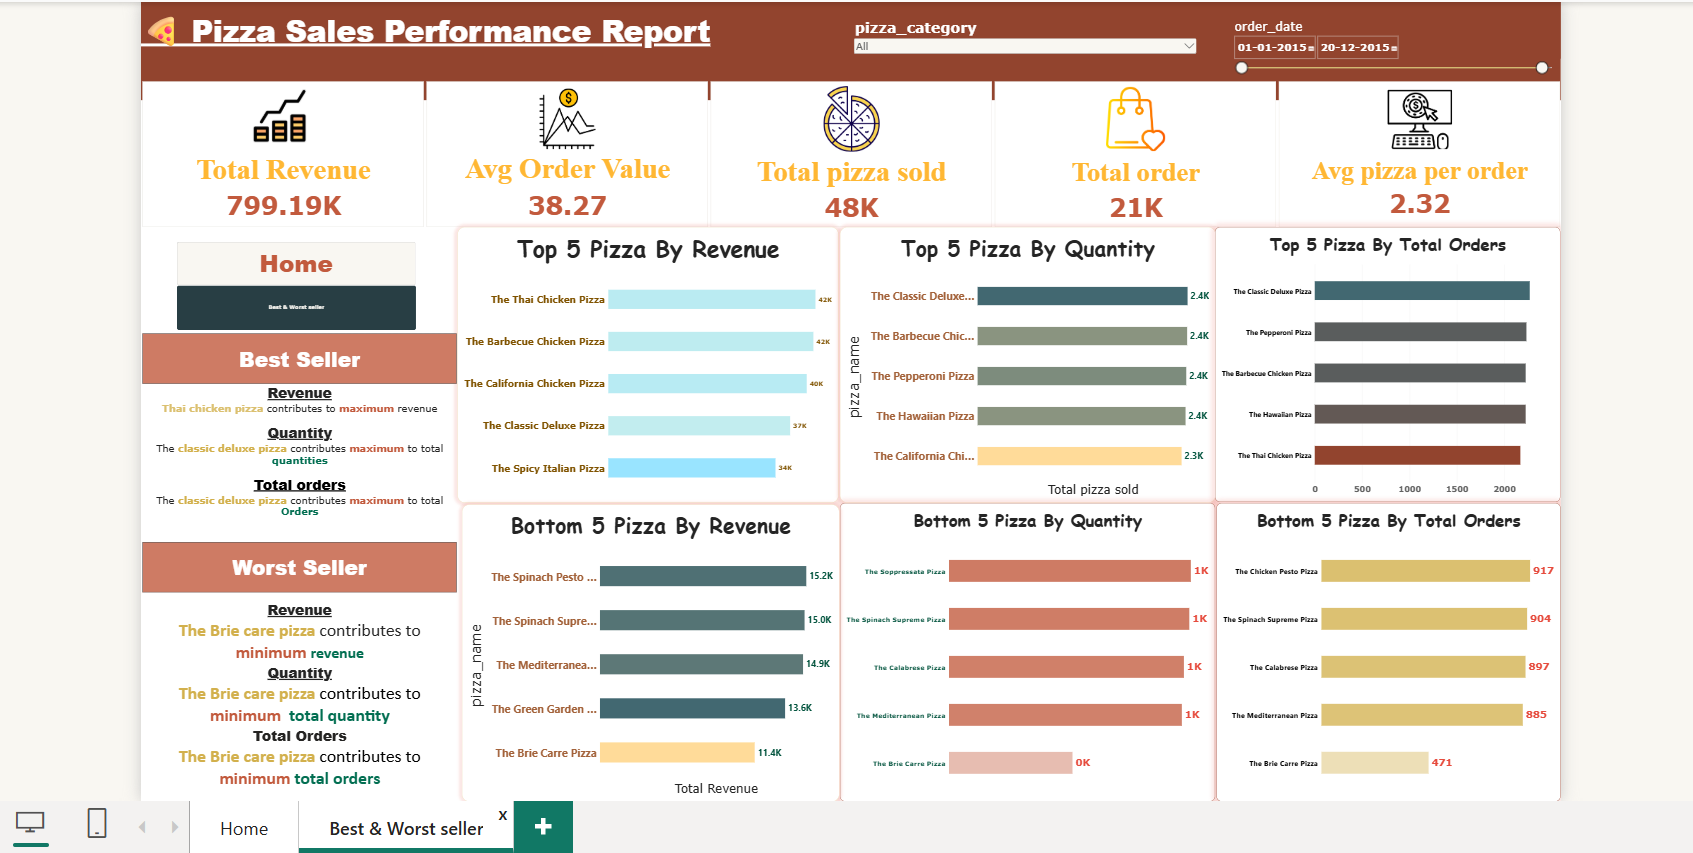

The dashboard page shown, as its layout file describes it:
{"tool":"powerbi","page":{"name":"Best & Worst seller","canvas":[3840,2160],"ordinal":1},"visuals":[{"type":"textbox","title":"🍕 Pizza Sales  Performance Report","box":[2,0,3838,265],"z":0},{"type":"cardVisual","fields":{"Data":["pizza_sales.Total Revenue","pizza_sales.Avg Order Value","pizza_sales.Total pizza sold","pizza_sales.Total order","pizza_sales.Avg pizza per order"]},"box":[4.1,214.9,3832.1,393.3],"z":1000},{"type":"barChart","title":"Top 5 Pizza By Revenue","fields":{"Category":["pizza_sales.pizza_name"],"Y":["pizza_sales.Total Revenue"]},"box":[855,610,1030,745],"z":2000},{"type":"barChart","title":"Top 5 Pizza By Quantity","fields":{"Category":["pizza_sales.pizza_name"],"Y":["pizza_sales.Total pizza sold"]},"box":[1890,610,1015,745],"z":3000},{"type":"barChart","title":"Bottom 5 Pizza By Quantity","fields":{"Category":["pizza_sales.pizza_name"],"Y":["pizza_sales.Total pizza sold"]},"box":[1889.7,1354.4,1013.8,807],"z":6000},{"type":"shape","box":[4.5,894.9,849.5,136.3],"z":7000},{"type":"textbox","box":[3.3,1030,850,426.7],"z":8000},{"type":"shape","box":[4.5,1458.2,849.5,136.3],"z":9000},{"type":"textbox","box":[5,1595,850,565],"z":10000},{"type":"slicer","fields":{"Values":["pizza_sales.pizza_category"]},"box":[1921.5,45.4,935.8,109],"z":11000},{"type":"slicer","fields":{"Values":["pizza_sales.order_date"]},"box":[2950,45,885,330],"z":12000},{"type":"barChart","title":"Bottom 5 Pizza By Revenue ","fields":{"Category":["pizza_sales.pizza_name"],"Y":["pizza_sales.Total Revenue"]},"box":[866.7,1356.7,1020,803.3],"z":12001},{"type":"barChart","title":"Top 5 Pizza By Total Orders","fields":{"Category":["pizza_sales.pizza_name"],"Y":["pizza_sales.Total order"]},"box":[2903.3,610,933.3,743.3],"z":12002},{"type":"barChart","title":"Top 5 Pizza By Total Orders","fields":{"Category":["pizza_sales.pizza_name"],"Y":["pizza_sales.Total order"]},"box":[4003.3,1386.7,933.3,743.3],"z":12003},{"type":"barChart","title":"Bottom 5 Pizza By Total Orders","fields":{"Category":["pizza_sales.pizza_name"],"Y":["pizza_sales.Total order"]},"box":[2906.7,1353.3,930,806.7],"z":12004},{"type":"pageNavigator","box":[96.7,650,645,117.5],"z":12005},{"type":"pageNavigator","box":[96.7,766.7,646.7,120],"z":12006}]}

Visuals, with their boxes on the page's 3840x2160 design canvas (x1, y1, x2, y2). These are canvas units, not pixel positions in the 1693x853 screenshot, which may show the page scaled, cropped or inside an application window:
"🍕 Pizza Sales  Performance Report" textbox: left=2, top=0, right=3840, bottom=265
cardVisual - pizza_sales.Total Revenue x pizza_sales.Avg Order Value: left=4, top=215, right=3836, bottom=608
"Top 5 Pizza By Revenue" barChart: left=855, top=610, right=1885, bottom=1355
"Top 5 Pizza By Quantity" barChart: left=1890, top=610, right=2905, bottom=1355
"Bottom 5 Pizza By Quantity" barChart: left=1890, top=1354, right=2904, bottom=2161
shape: left=4, top=895, right=854, bottom=1031
textbox: left=3, top=1030, right=853, bottom=1457
shape: left=4, top=1458, right=854, bottom=1594
textbox: left=5, top=1595, right=855, bottom=2160
slicer - pizza_sales.pizza_category: left=1922, top=45, right=2857, bottom=154
slicer - pizza_sales.order_date: left=2950, top=45, right=3835, bottom=375
"Bottom 5 Pizza By Revenue " barChart: left=867, top=1357, right=1887, bottom=2160
"Top 5 Pizza By Total Orders" barChart: left=2903, top=610, right=3837, bottom=1353
"Top 5 Pizza By Total Orders" barChart: left=4003, top=1387, right=4937, bottom=2130
"Bottom 5 Pizza By Total Orders" barChart: left=2907, top=1353, right=3837, bottom=2160
pageNavigator: left=97, top=650, right=742, bottom=768
pageNavigator: left=97, top=767, right=743, bottom=887
